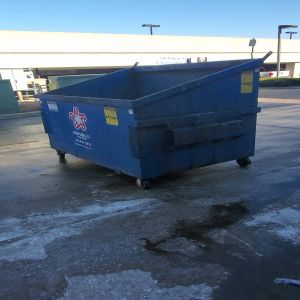Dumpster: (36, 59, 264, 189)
